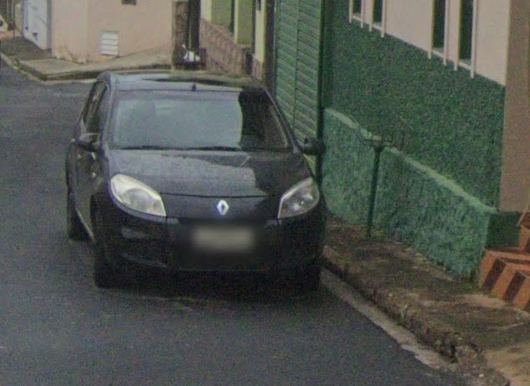car: (60, 53, 333, 299)
